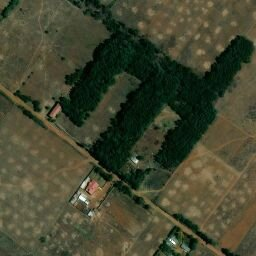tree: (143, 204, 150, 210), (39, 237, 46, 243), (136, 155, 144, 160), (61, 57, 65, 61), (44, 30, 48, 34), (45, 106, 49, 109), (52, 97, 55, 100)
